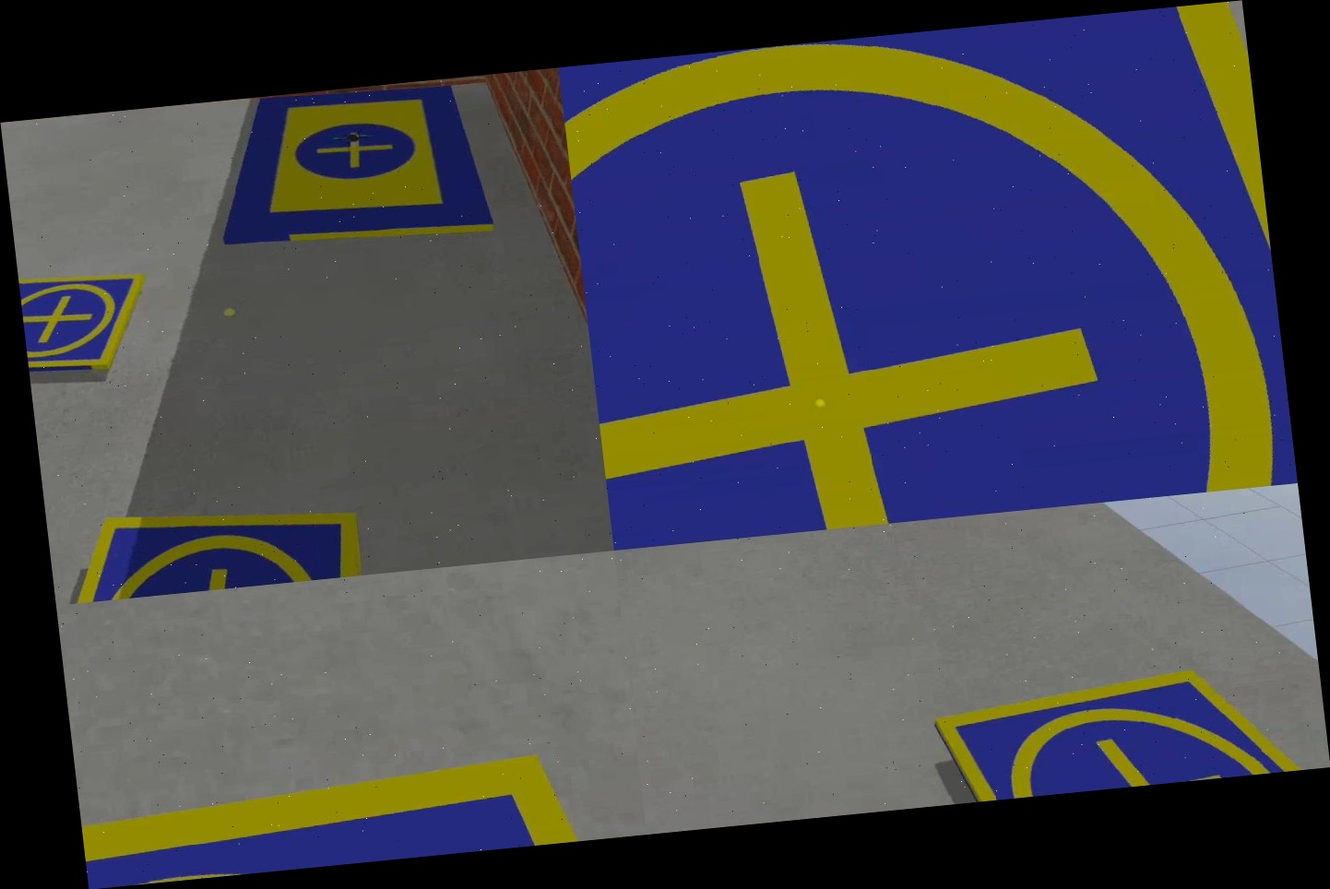large_base: (205, 76, 497, 265)
small_base: (558, 0, 1297, 551), (78, 741, 647, 889), (933, 659, 1330, 804), (47, 495, 368, 605), (18, 257, 155, 383)
